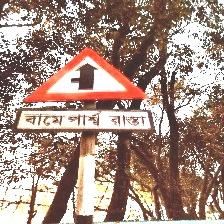Side-road-left: (17, 46, 151, 134)
